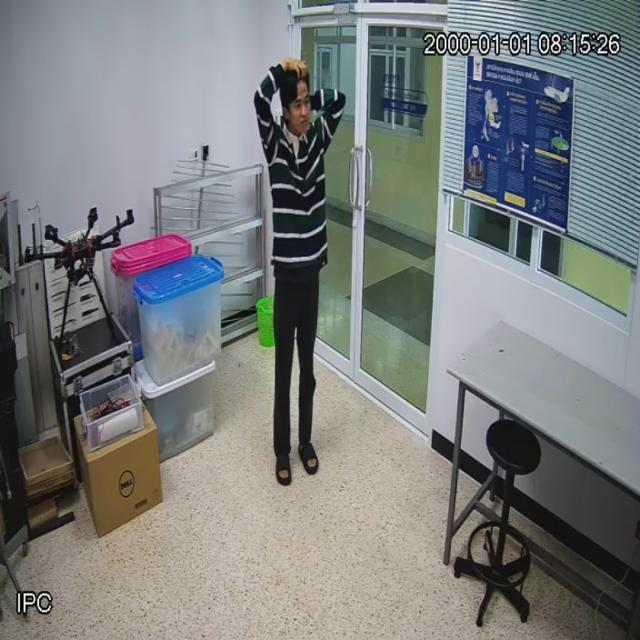normal: (253, 61, 343, 485)
